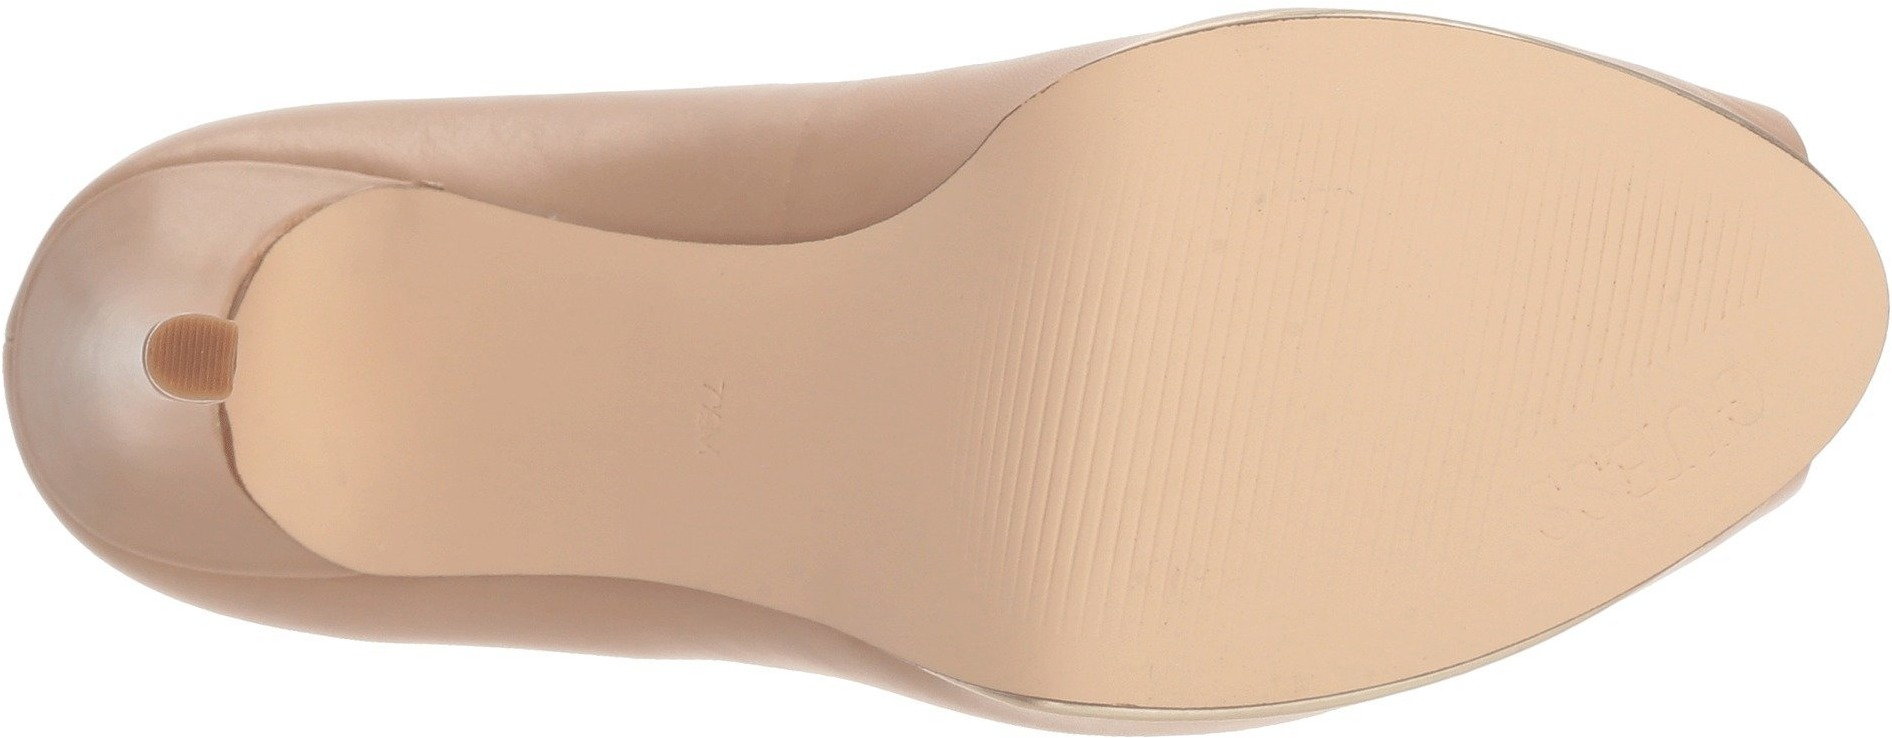other: (1079, 170, 1373, 517), (1447, 204, 1736, 502), (138, 301, 249, 417)
